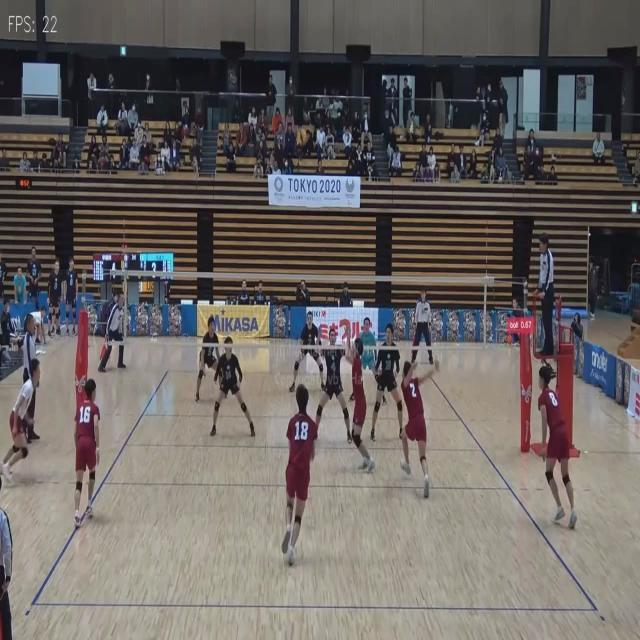volleyball: (296, 130, 308, 144)
